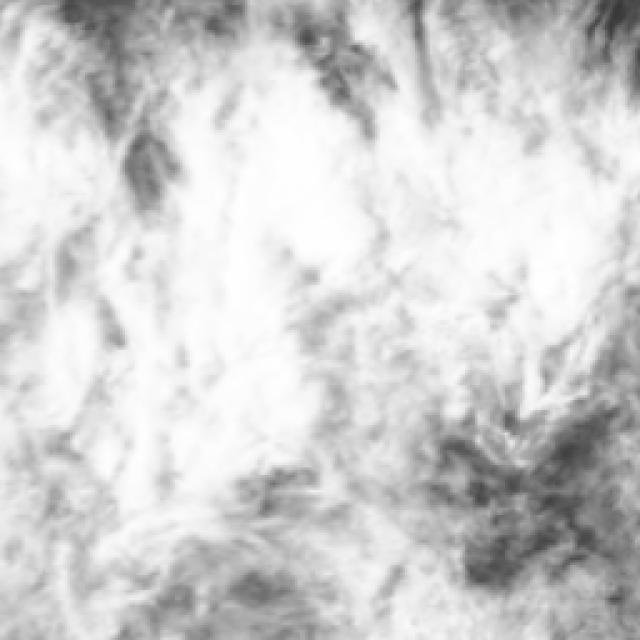CB: (178, 205, 271, 364), (478, 164, 579, 264)
